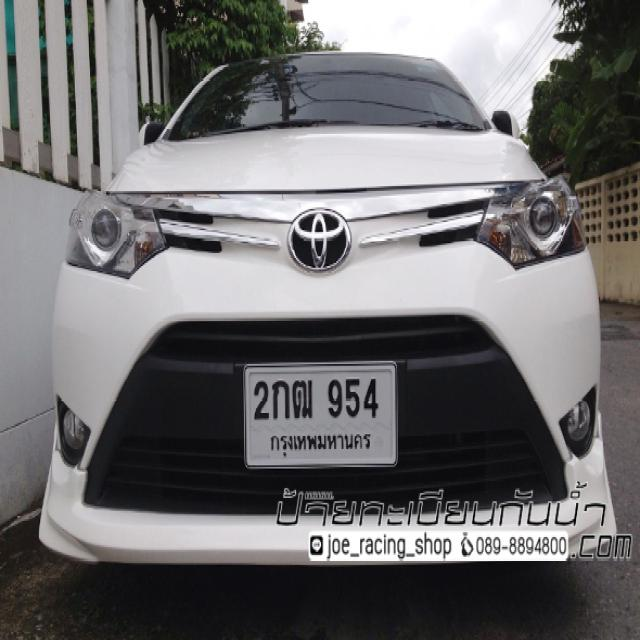license_plate: (241, 361, 398, 467)
